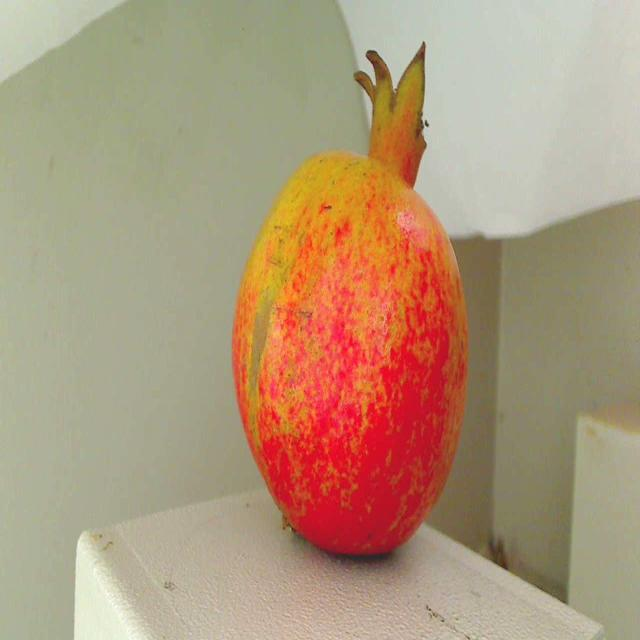pomegranate: (222, 34, 482, 572)
